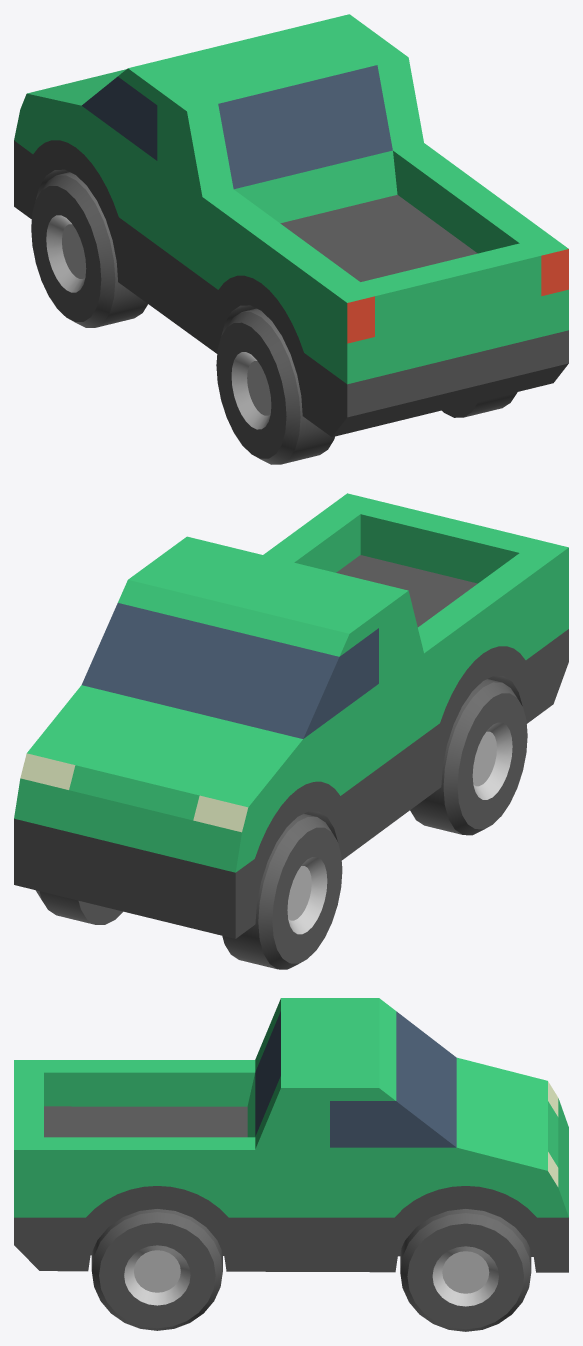
The model's file is carTruck.fbx.
3 renders of one model, top to bottom at view 1: azimuth 30°, elevation 25°; view 2: azimuth 150°, elevation 25°; view 3: azimuth 270°, elevation 25°, orthographic. The views are drawn at different scales.
Visible parts, largest first — view 1: body 13, wheelBackLeft 13, wheelFrontLeft 13, wheelBackRight 13; view 2: body 13, wheelBackLeft 13, wheelFrontLeft 13, wheelFrontRight 13; view 3: body 13, wheelFrontRight 13, wheelBackRight 13.
Boxes of the visible parts, left/top/right/bottom form: body 13: left=14, top=14, right=568, bottom=436; wheelBackLeft 13: left=216, top=308, right=334, bottom=464; wheelFrontLeft 13: left=31, top=172, right=147, bottom=327; wheelBackRight 13: left=442, top=392, right=517, bottom=417; body 13: left=14, top=493, right=568, bottom=938; wheelBackLeft 13: left=410, top=679, right=527, bottom=835; wheelFrontLeft 13: left=222, top=814, right=342, bottom=969; wheelFrontRight 13: left=36, top=890, right=122, bottom=924; body 13: left=14, top=998, right=568, bottom=1272; wheelFrontRight 13: left=400, top=1209, right=531, bottom=1331; wheelBackRight 13: left=91, top=1209, right=222, bottom=1330.
Bounding box in the file's own units: 4.95 × 5.77 × 11.85.
